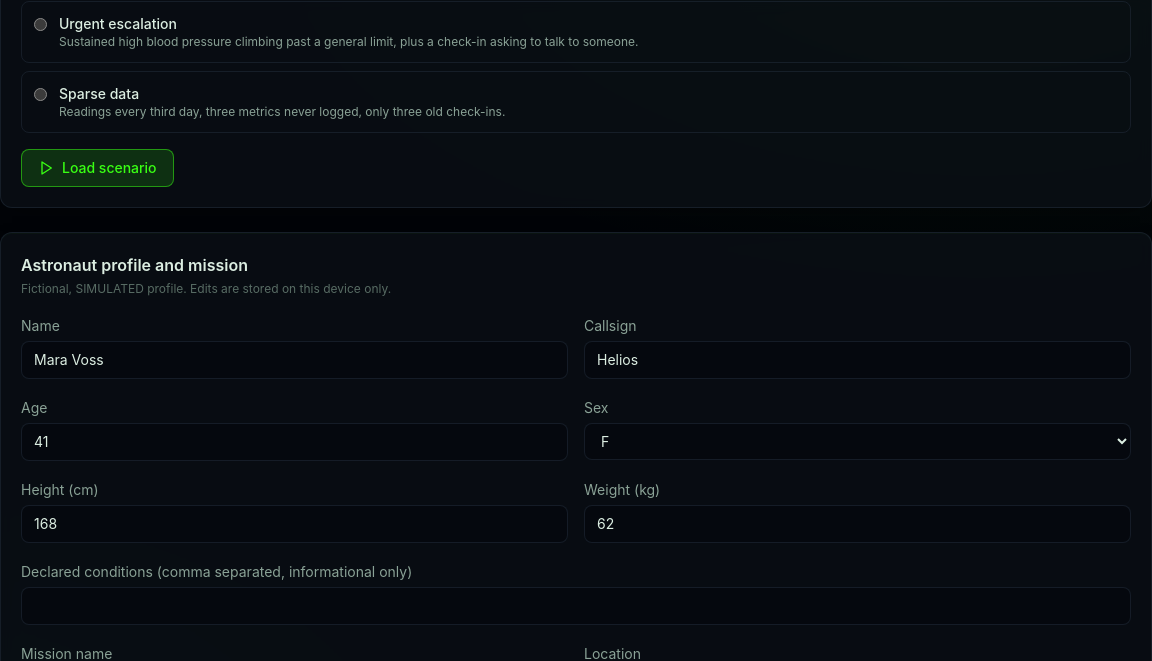
Test: Settings › validates the profile form and saves edits
(page scrolled)
Clear the field labelled "Name" at (294, 360), box [21,341,568,379]
(page scrolled)
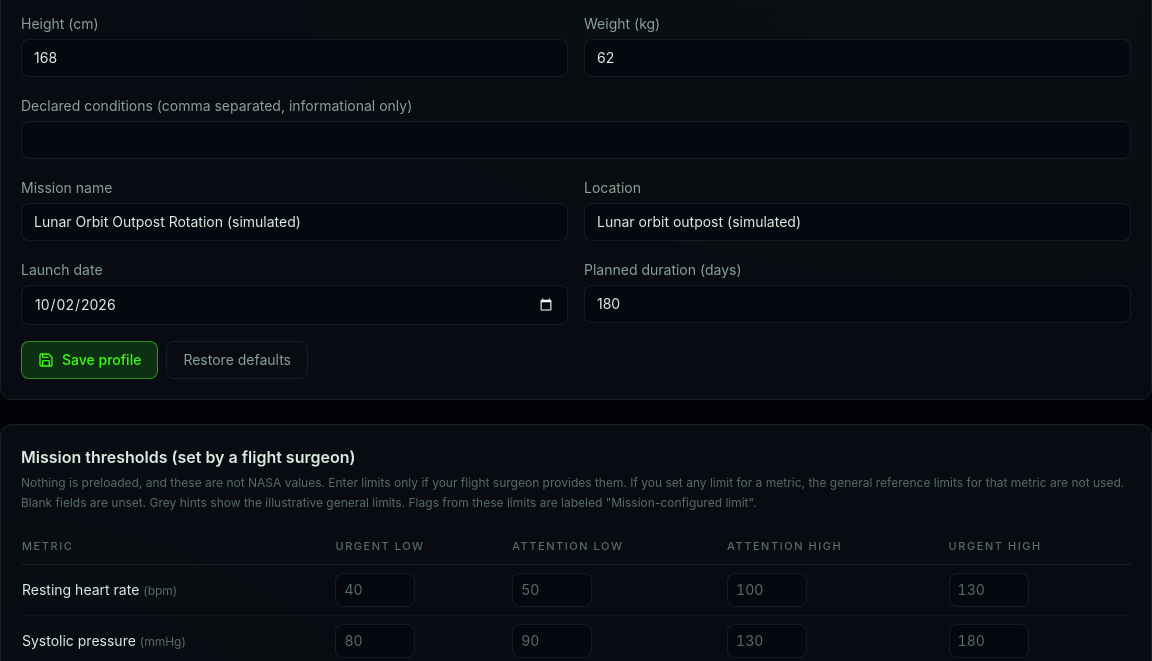
Click the button "Save profile" at (90, 360), box [21,341,158,379]
(page scrolled)
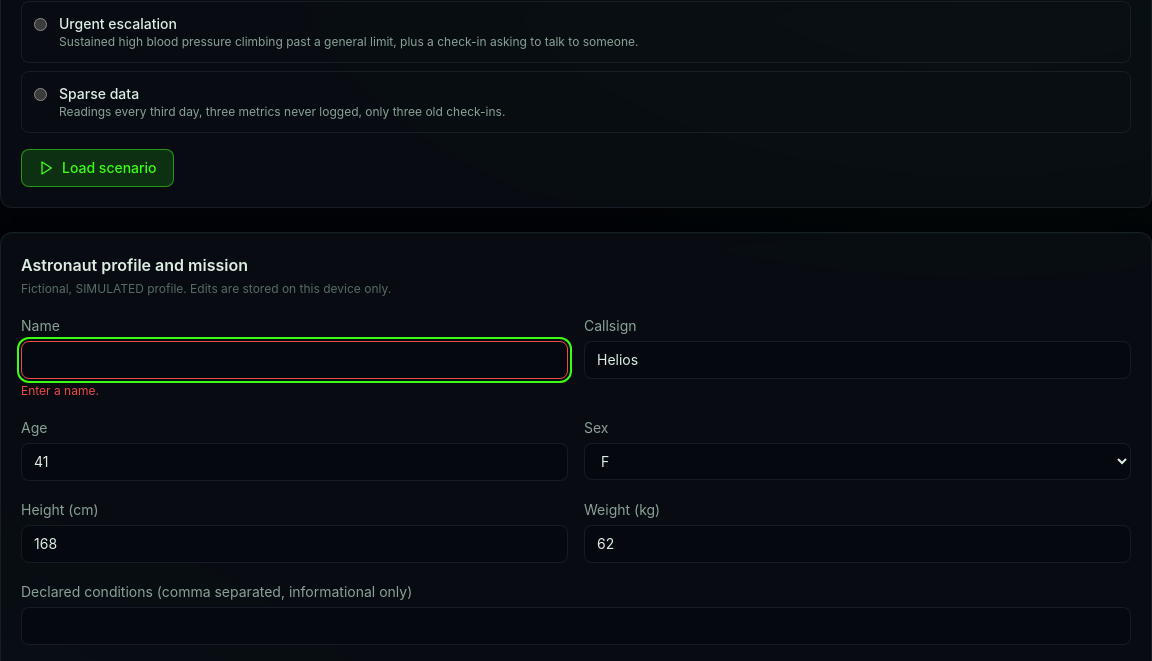
Check: the text "Enter a name." is shown, box [21,383,99,398]
Type "Mara Voss" into the field labelled "Name" at (294, 360), box [21,341,568,379]
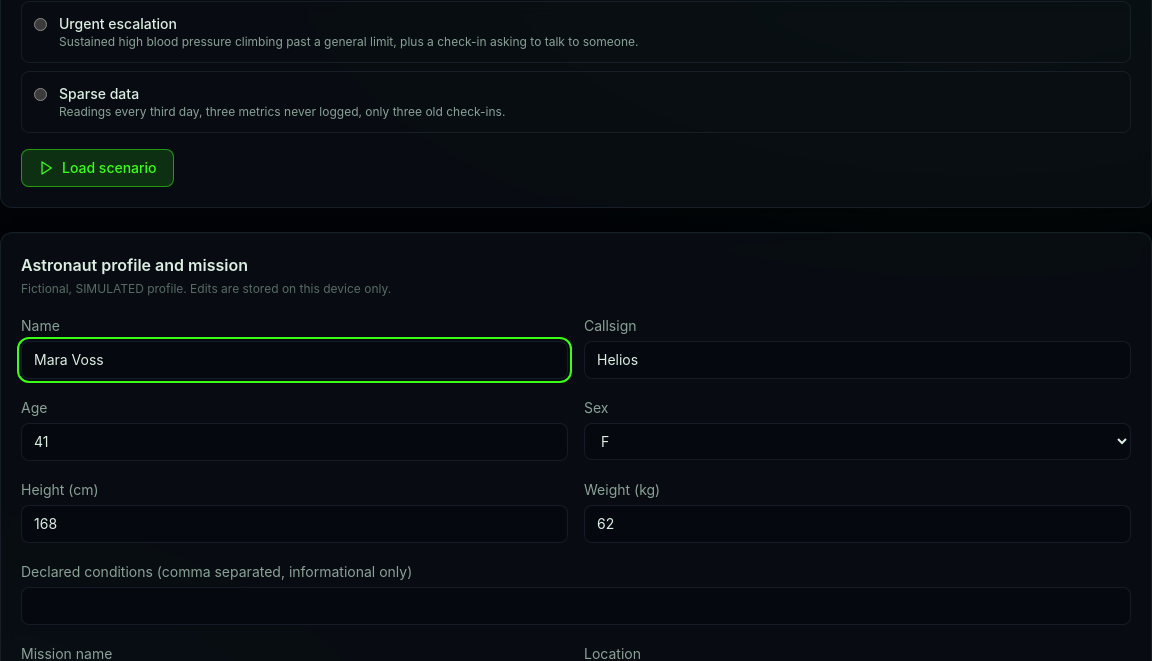
Replace the text in the field labelled "Callsign" with "Zed" at (858, 360), box [584,341,1131,379]
(page scrolled)
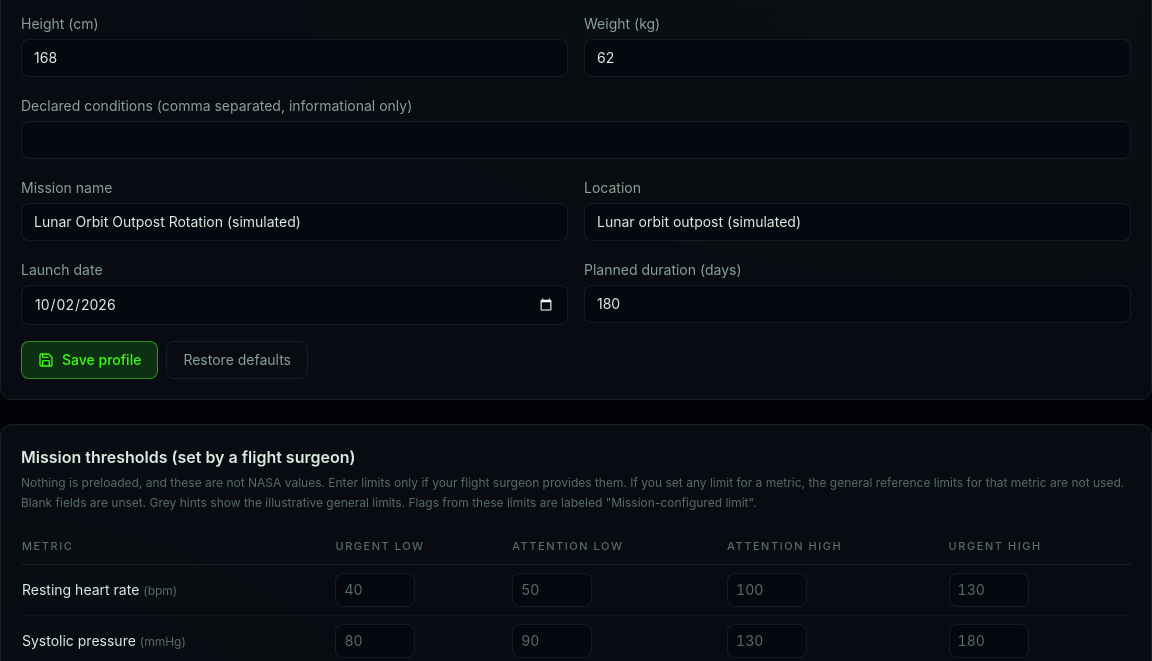
Click the button "Save profile" at (90, 360), box [21,341,158,379]
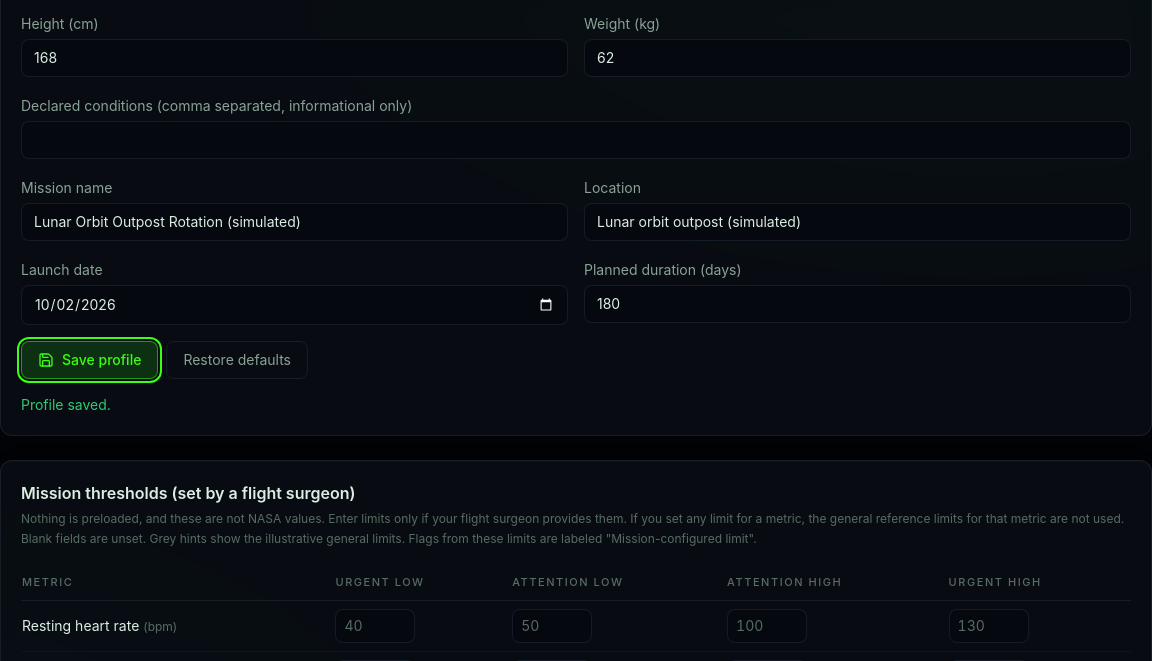
Check: the text "Profile saved." is shown, box [21,396,111,413]
